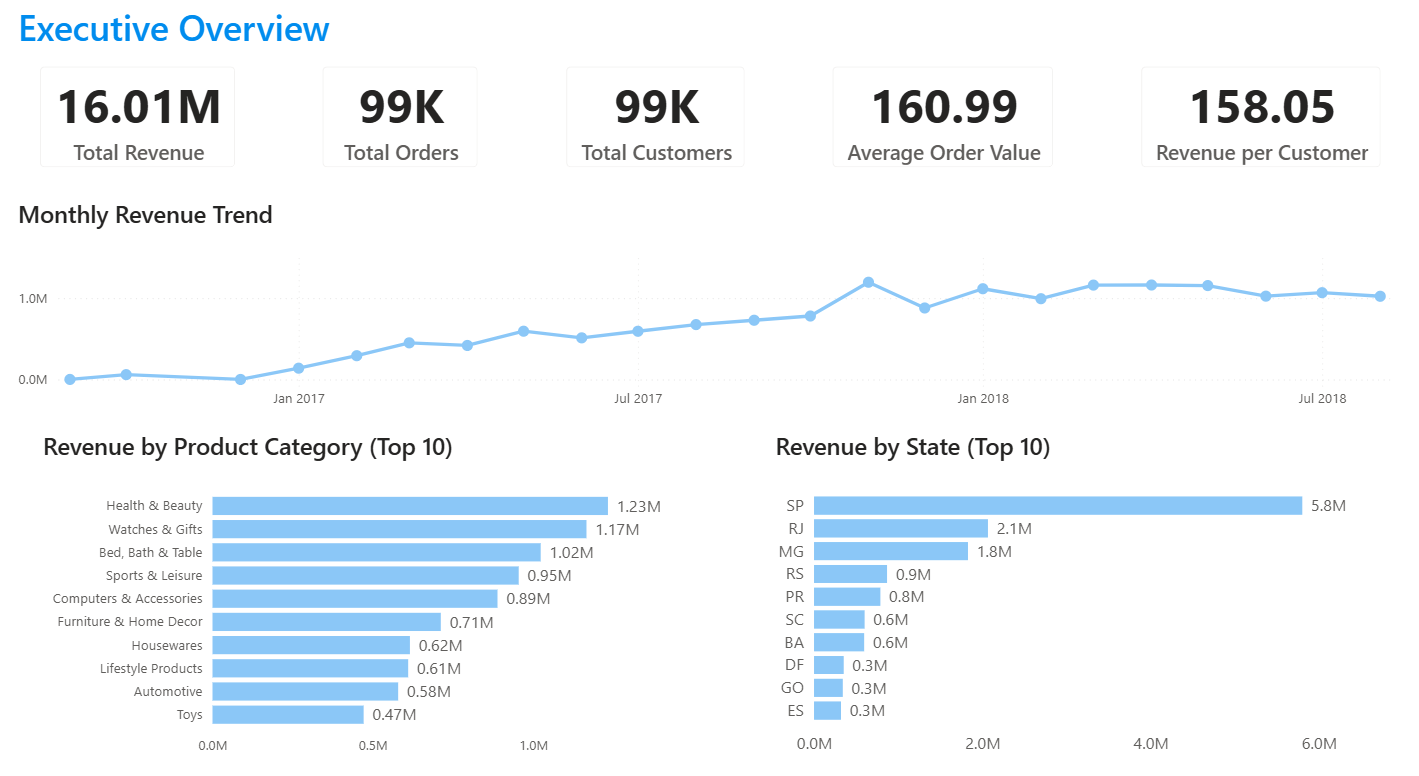

What the dashboard file says about the page in this screenshot:
{"tool":"powerbi","page":{"name":"Executive Overview","canvas":[1280,720],"ordinal":0},"visuals":[{"type":"cardVisual","fields":{"Data":["Avg(Executive.Revenue per Customer)"]},"box":[1012.1,61.6,250.2,125.7],"z":0},{"type":"cardVisual","fields":{"Data":["Executive.Average Order Value"]},"box":[733.5,61.6,233.7,125.6],"z":1000},{"type":"cardVisual","fields":{"Data":["Executive.Total Orders"]},"box":[274,61.6,174.4,125.6],"z":2000},{"type":"cardVisual","fields":{"Data":["Executive.Total Customers"]},"box":[493.3,61.6,195.3,125.6],"z":3000},{"type":"cardVisual","fields":{"Data":["Executive.Total Revenue"]},"box":[18.6,61.6,210.5,125.6],"z":4000},{"type":"lineChart","title":"Monthly Revenue Trend","fields":{"Y":["Sum(Executive.revenue)"],"Category":["Executive.month"]},"box":[11.6,197.7,1260.5,198.8],"z":5000},{"type":"clusteredBarChart","title":"Revenue by Product Category (Top 10)","fields":{"Category":["Category.category"],"Y":["Sum(Category.revenue)"]},"box":[33.7,405.8,582.6,303.5],"z":6000},{"type":"clusteredBarChart","title":"Revenue by State (Top 10)","fields":{"Category":["Customer.customer_state"],"Y":["Sum(Customer.total_revenue)"]},"box":[694.2,405.8,543,303.5],"z":7000},{"type":"textbox","box":[11.5,16.7,363,56.4],"z":8000}]}

Visuals, with their boxes in screenshot pixels (x1, y1, x2, y2), scaled from the page's 1280x720 canvas onto the 1419x776 screenshot:
cardVisual - Avg(Executive.Revenue per Customer): region(1122, 66, 1399, 202)
cardVisual - Executive.Average Order Value: region(813, 66, 1072, 202)
cardVisual - Executive.Total Orders: region(304, 66, 497, 202)
cardVisual - Executive.Total Customers: region(547, 66, 763, 202)
cardVisual - Executive.Total Revenue: region(21, 66, 254, 202)
"Monthly Revenue Trend" lineChart: region(13, 213, 1410, 427)
"Revenue by Product Category (Top 10)" clusteredBarChart: region(37, 437, 683, 764)
"Revenue by State (Top 10)" clusteredBarChart: region(770, 437, 1372, 764)
textbox: region(13, 18, 415, 79)
